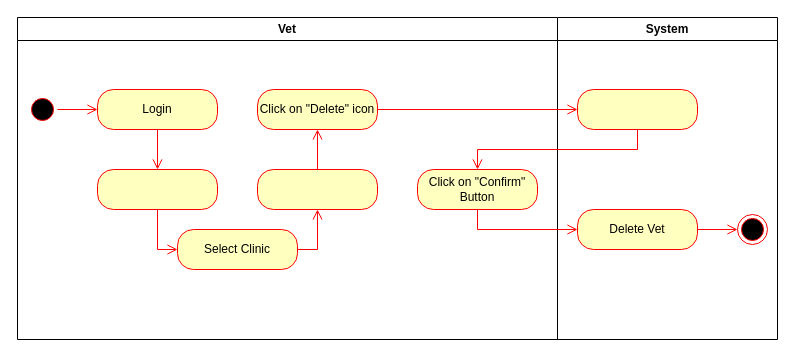
This 795x357 diagram has some shape labels left out. Each missing label, with the box of its shape:
Click on "Vet List": (256, 168, 378, 210)
Click on Menu: (96, 168, 218, 210)
Display Confirmation Question: (576, 88, 698, 130)
